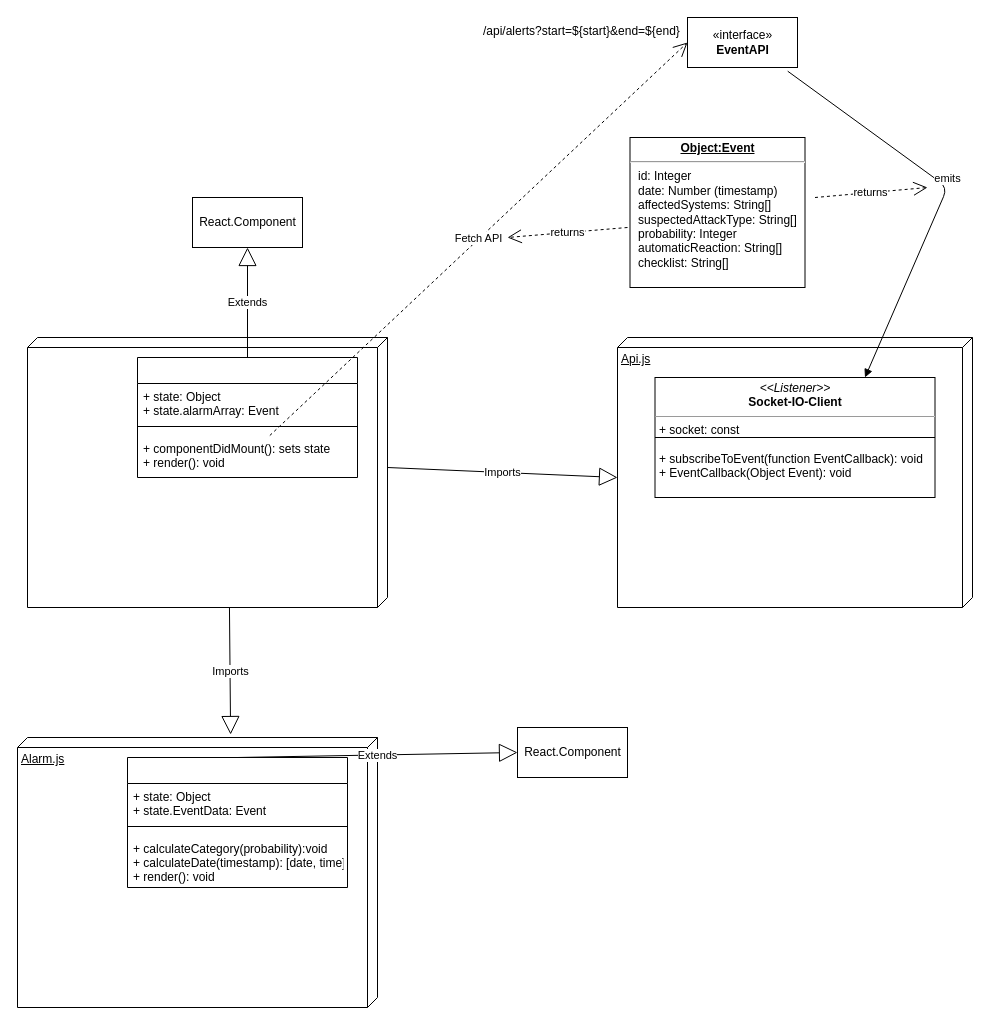
Image size: 990x1025. Some labels were removed from this diagram. The shapes that lost their labels are listed below. From the top down, each one's box as (x1, y1, x2, y2) in pixels, then its label:
(136, 356, 358, 478): App
(26, 336, 388, 608): App.js
(126, 756, 348, 888): Alarm
